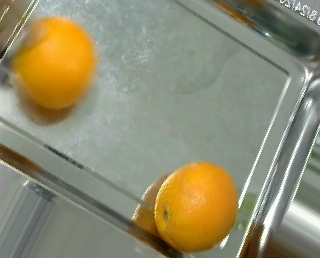Orange: (153, 161, 238, 253), (14, 18, 95, 109)
